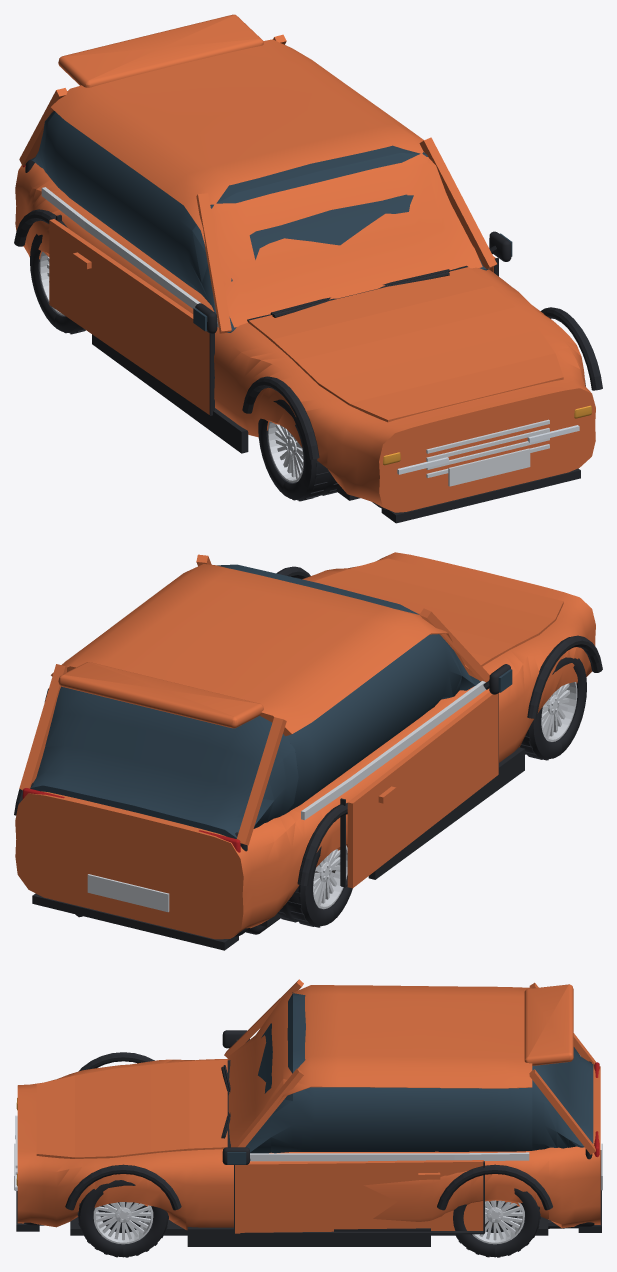
The model's file is HotHatchHD.fbx.
3 renders of one model, top to bottom at view 1: azimuth 30°, elevation 25°; view 2: azimuth 150°, elevation 25°; view 3: azimuth 270°, elevation 25°, orthographic. The views are drawn at different scales.
Parts seen in each view (by area): view 1: body_hot-hatch_0, body_bonnet.001, glass_hot-hatch_2, body_door-front-left.001, trim_hot-hatch_1, rim_hot-hatch_6, trim_wheel-front-left_trim, rim_wheel-front-left_alloy, trim_wheel-rear-left_trim, lightwhite_hot-hatch_4; view 2: body_hot-hatch_0, glass_boot_glass, glass_hot-hatch_2, body_door-front-left.001, body_bonnet.001, trim_hot-hatch_1, rim_hot-hatch_6, trim_wheel-front-left_trim, trim_wheel-rear-left_trim, rim_wheel-front-left_alloy, rim_wheel-rear-left_alloy; view 3: body_hot-hatch_0, glass_hot-hatch_2, body_bonnet.001, body_door-front-right.001, trim_hot-hatch_1, glass_boot_glass, rim_hot-hatch_6, trim_wheel-front-right_trim, trim_wheel-rear-right_trim, rim_wheel-front-right_alloy, rim_wheel-rear-right_alloy.
Part boxes in pixels (left/top/right/bottom): body_hot-hatch_0: left=15, top=14, right=595, bottom=512; body_bonnet.001: left=248, top=267, right=563, bottom=422; glass_hot-hatch_2: left=44, top=112, right=512, bottom=332; body_door-front-left.001: left=49, top=219, right=209, bottom=414; trim_hot-hatch_1: left=14, top=159, right=602, bottom=523; rim_hot-hatch_6: left=41, top=187, right=549, bottom=486; trim_wheel-front-left_trim: left=258, top=399, right=339, bottom=501; rim_wheel-front-left_alloy: left=268, top=421, right=303, bottom=482; trim_wheel-rear-left_trim: left=30, top=234, right=85, bottom=334; lightwhite_hot-hatch_4: left=397, top=425, right=579, bottom=474; body_hot-hatch_0: left=15, top=552, right=595, bottom=939; glass_boot_glass: left=30, top=686, right=298, bottom=838; glass_hot-hatch_2: left=217, top=564, right=512, bottom=813; body_door-front-left.001: left=347, top=692, right=498, bottom=888; body_bonnet.001: left=314, top=558, right=563, bottom=668; trim_hot-hatch_1: left=14, top=566, right=602, bottom=950; rim_hot-hatch_6: left=87, top=681, right=485, bottom=912; trim_wheel-front-left_trim: left=519, top=657, right=586, bottom=760; trim_wheel-rear-left_trim: left=278, top=846, right=352, bottom=927; rim_wheel-front-left_alloy: left=541, top=682, right=577, bottom=741; rim_wheel-rear-left_alloy: left=313, top=845, right=347, bottom=909; body_hot-hatch_0: left=17, top=979, right=600, bottom=1230; glass_hot-hatch_2: left=227, top=992, right=532, bottom=1164; body_bonnet.001: left=36, top=1060, right=227, bottom=1158; body_door-front-right.001: left=235, top=1160, right=483, bottom=1233; trim_hot-hatch_1: left=16, top=1030, right=601, bottom=1246; glass_boot_glass: left=532, top=1047, right=593, bottom=1150; rim_hot-hatch_6: left=14, top=1117, right=602, bottom=1190; trim_wheel-front-right_trim: left=77, top=1180, right=168, bottom=1257; trim_wheel-rear-right_trim: left=453, top=1188, right=540, bottom=1257; rim_wheel-front-right_alloy: left=93, top=1202, right=153, bottom=1244; rim_wheel-rear-right_alloy: left=472, top=1200, right=524, bottom=1244.
Bounding box in the file's own units: 223 × 162 × 453.
